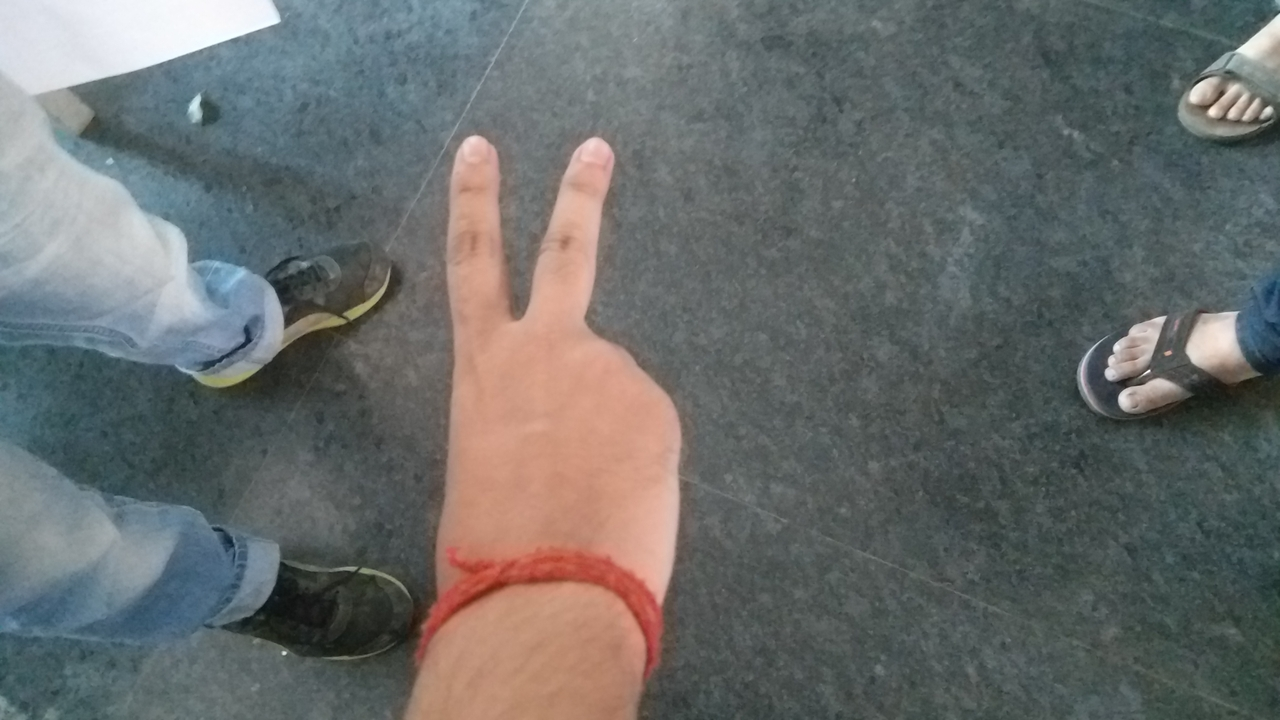fingertip: (554, 128, 620, 182), (440, 130, 504, 178)
